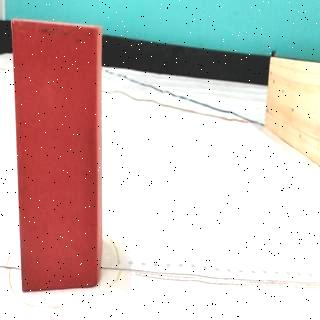redbox: (10, 19, 101, 292)
